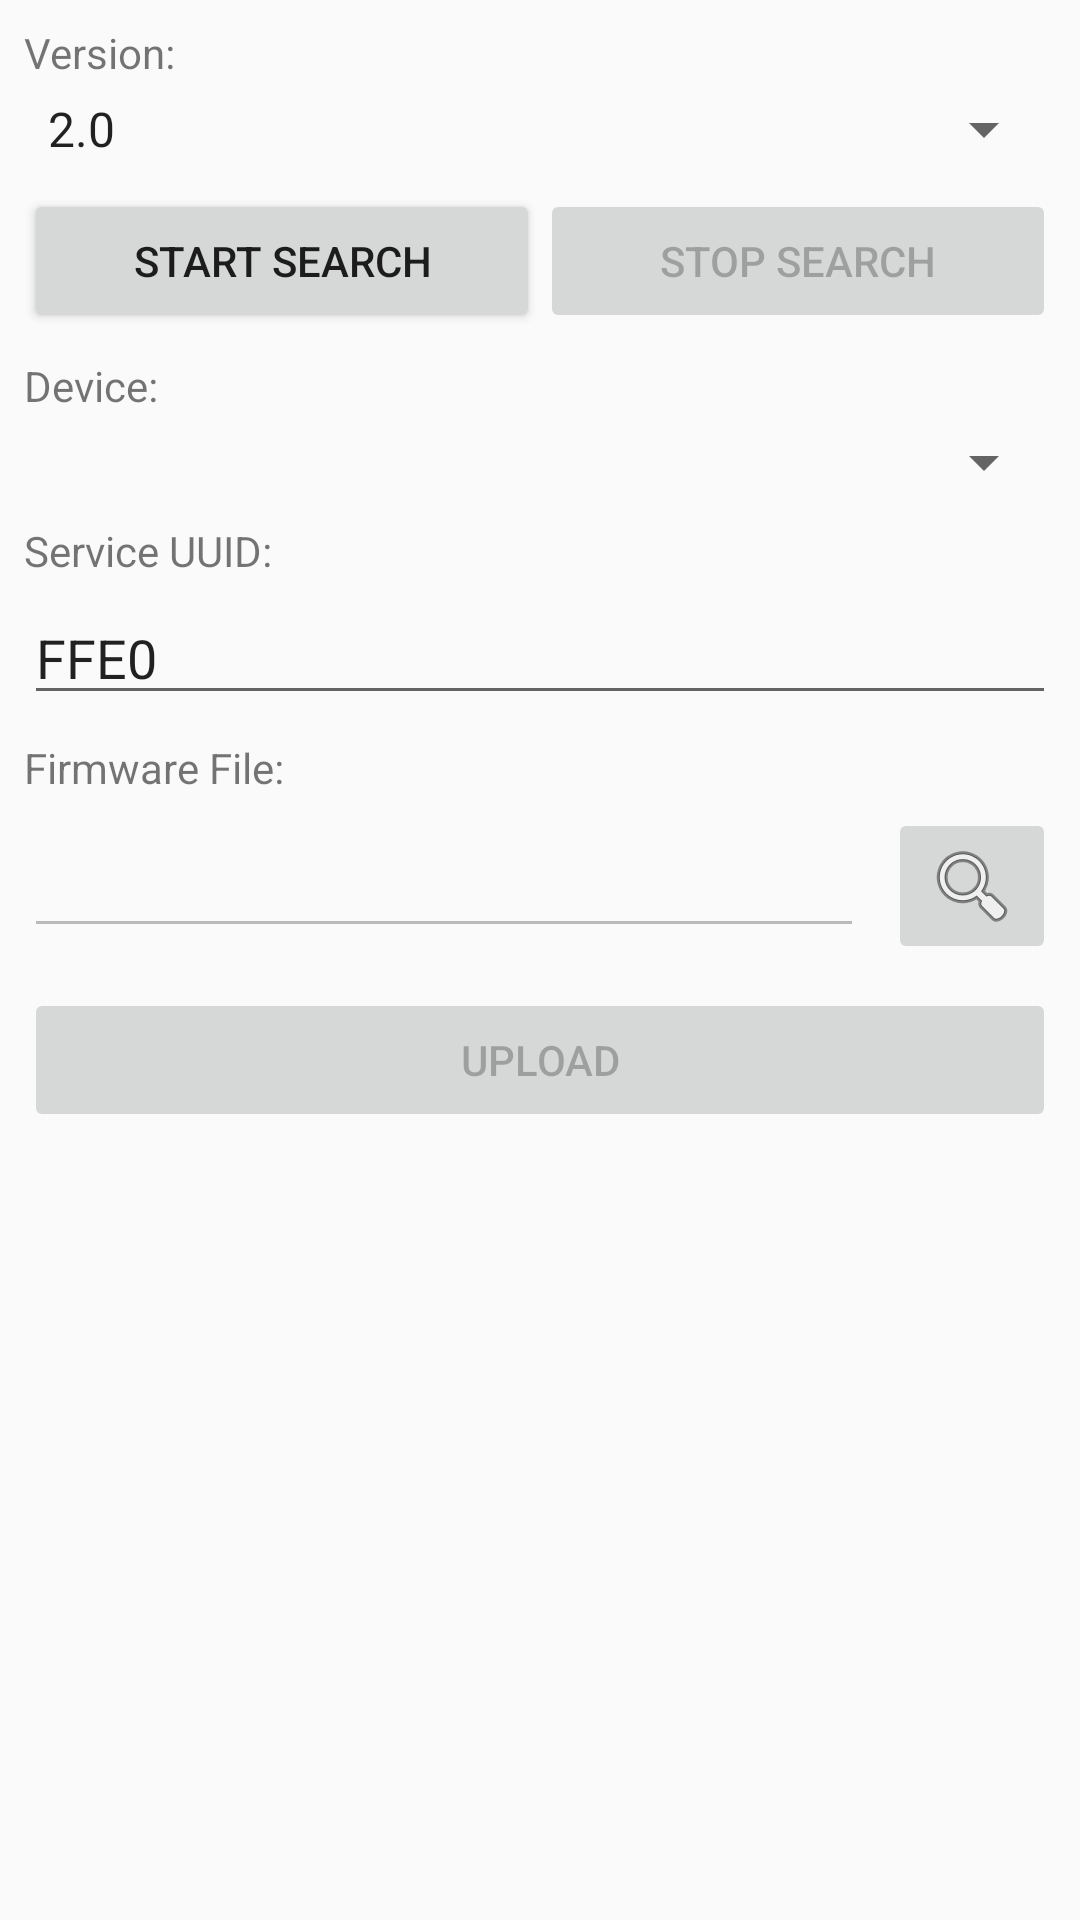

Point at icon controls on the screen. Image size 1080×1920, points as point (x, y).
search: point (972, 886)
